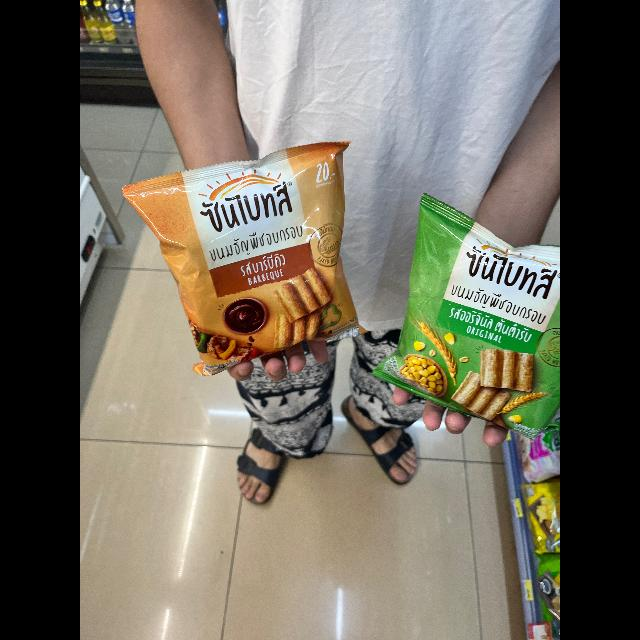snack_bag: (122, 140, 372, 378), (368, 190, 560, 428)
